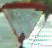Give way: (1, 3, 46, 46)
